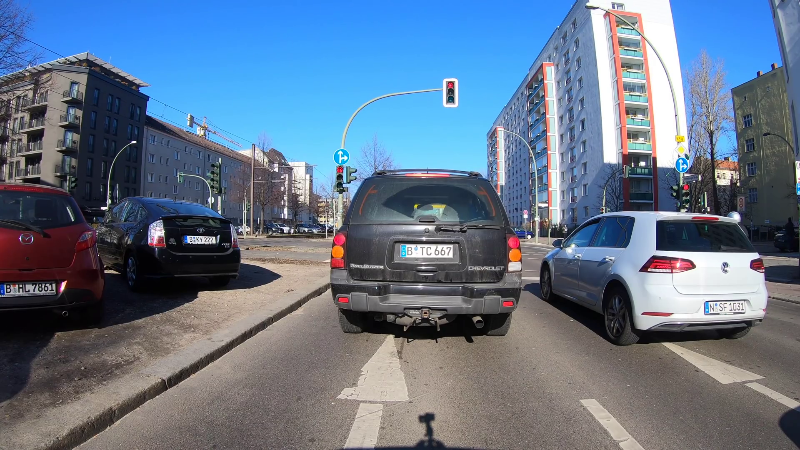Plate: (1, 279, 61, 297), (399, 244, 456, 260), (703, 298, 746, 313), (183, 236, 217, 245)
